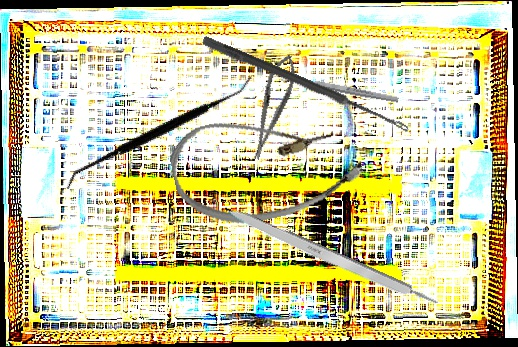Cannula: (164, 95, 369, 237)
Needle Holder: (242, 50, 303, 164)
Scalpel Handle: (220, 203, 441, 313)
Spatula Surgical: (65, 24, 253, 242)
Surgical Spoon: (200, 35, 412, 134), (280, 73, 400, 104)
